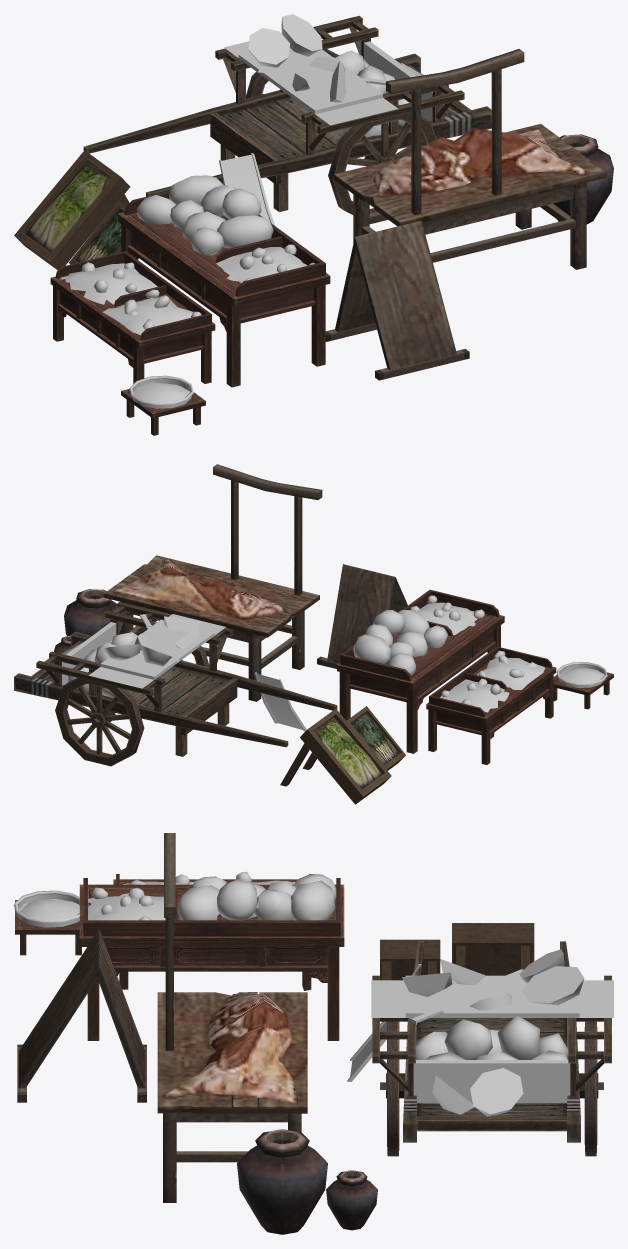
3 views of the same model, one above another, from view 1: azimuth 30°, elevation 25°; view 2: azimuth 150°, elevation 25°; view 3: azimuth 270°, elevation 25° (orthographic). The views are drawn at different scales.
Visible parts, largest first — view 1: element3ds.com-ca_thing_misc036_051_052, element3ds.com-ca_thing_misc204, element3ds.com-ca_thing_misc069, element3ds.com-ca_thing_misc043; view 2: element3ds.com-ca_thing_misc069, element3ds.com-ca_thing_misc204, element3ds.com-ca_thing_misc036_051_052, element3ds.com-ca_thing_misc043; view 3: element3ds.com-ca_thing_misc036_051_052, element3ds.com-ca_thing_misc069, element3ds.com-ca_thing_misc204, element3ds.com-ca_thing_misc043.
Part boxes in pixels (x1=…): element3ds.com-ca_thing_misc036_051_052: x1=325, y1=49, x2=613, y2=380; element3ds.com-ca_thing_misc204: x1=50, y1=175, x2=330, y2=435; element3ds.com-ca_thing_misc069: x1=83, y1=14, x2=491, y2=225; element3ds.com-ca_thing_misc043: x1=14, y1=150, x2=130, y2=270; element3ds.com-ca_thing_misc069: x1=14, y1=602, x2=337, y2=766; element3ds.com-ca_thing_misc204: x1=337, y1=589, x2=613, y2=764; element3ds.com-ca_thing_misc036_051_052: x1=54, y1=464, x2=407, y2=701; element3ds.com-ca_thing_misc043: x1=280, y1=706, x2=405, y2=804; element3ds.com-ca_thing_misc036_051_052: x1=17, y1=833, x2=377, y2=1234; element3ds.com-ca_thing_misc069: x1=347, y1=941, x2=613, y2=1156; element3ds.com-ca_thing_misc204: x1=14, y1=871, x2=344, y2=1040; element3ds.com-ca_thing_misc043: x1=380, y1=923, x2=534, y2=980.
Size of the model in its own units: 557 by 216 by 440.
